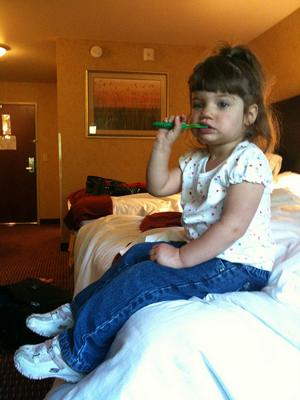person: (16, 43, 284, 386)
